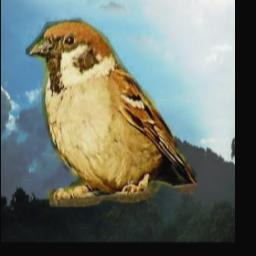Sparrow: (27, 18, 197, 207)
